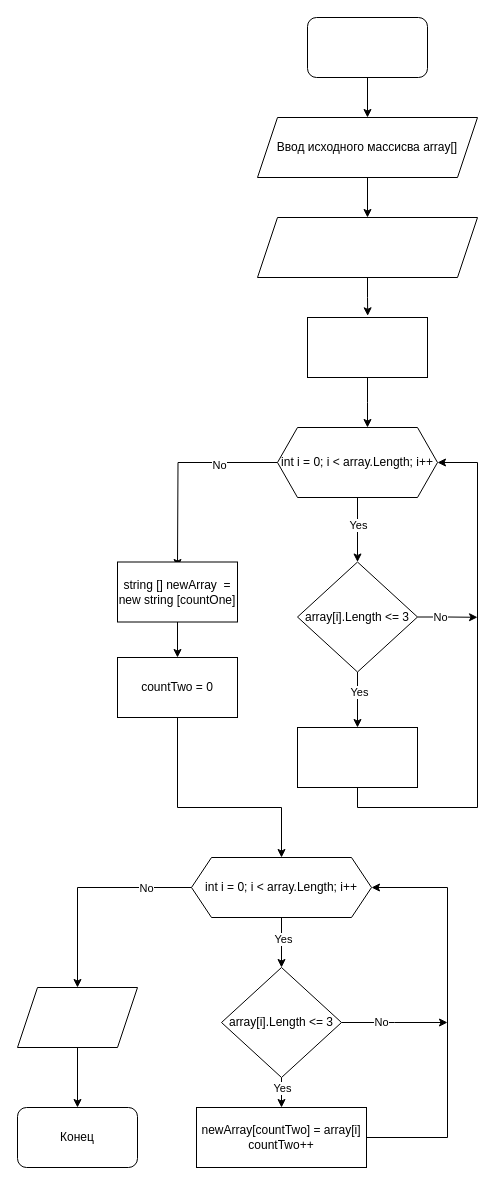
Image size: 503x1185. Some labels were removed from this diagram. Each missing label, with the centre of its shape:
"countOne++" goes at point 357,757.
"int countOne = 0" goes at point 367,347.
"Вывод массива newArray[]" goes at point 77,1017.
"Контрольный вывод array[]" goes at point 367,247.
"Начало" goes at point 367,47.
